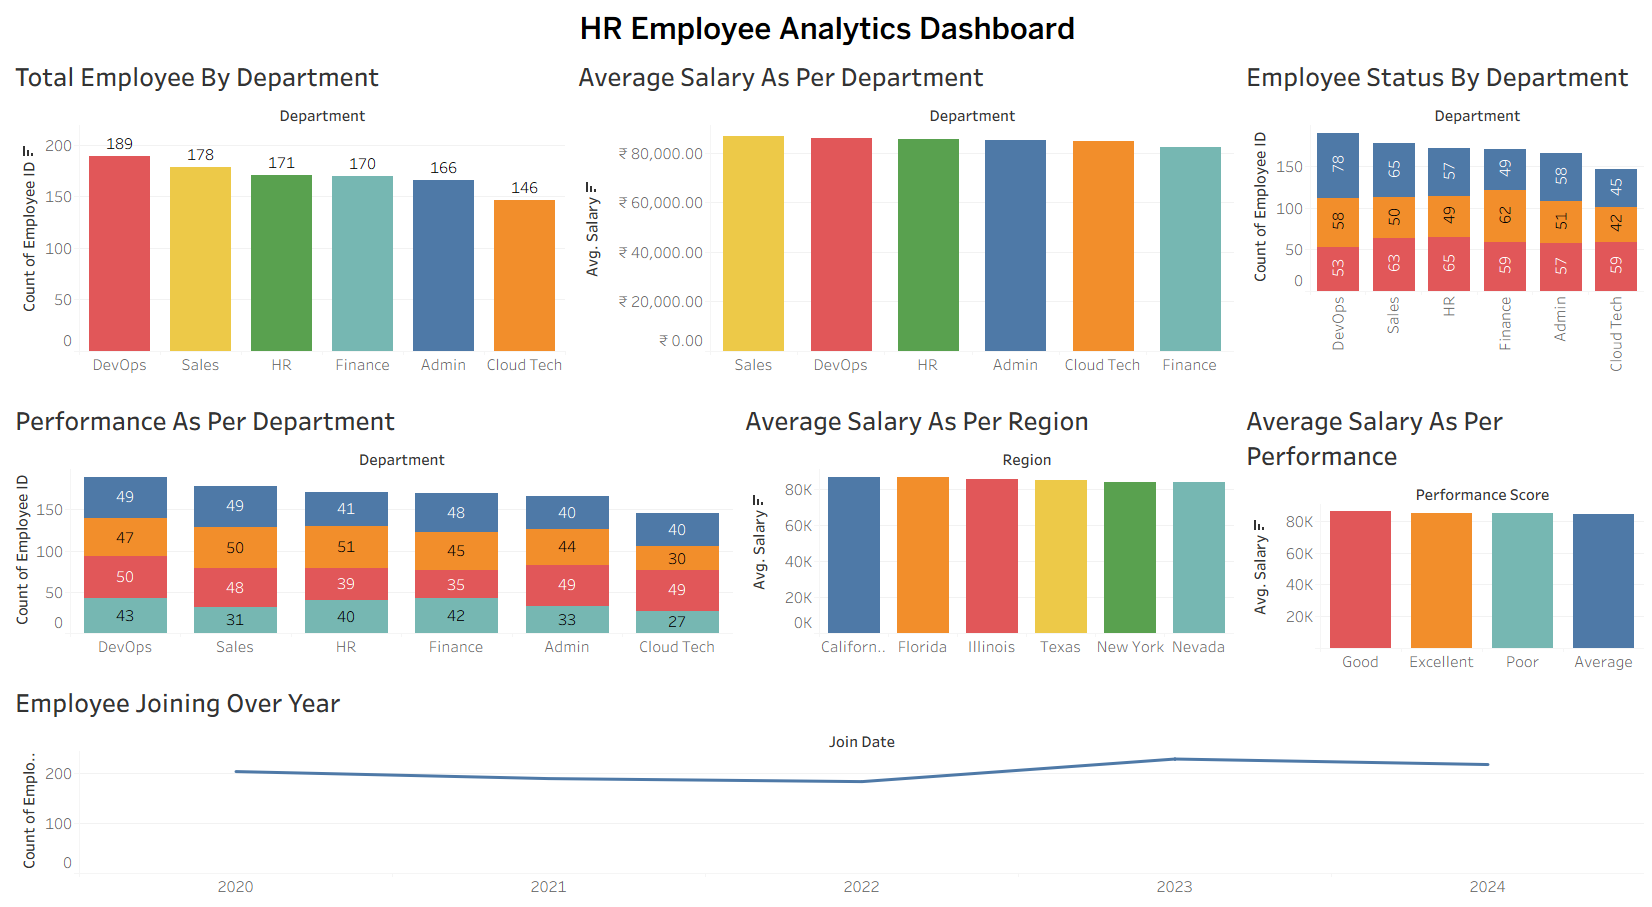

The dashboard page shown, as its layout file describes it:
{"tool":"tableau","page":{"name":"Dashboard 1","canvas":[1000,1000],"units":"permille","ordinal":0},"visuals":[{"type":"title","box":[4.8,8.8,990.3,48.3]},{"type":"worksheet","title":"Sheet 1","mark":"Automatic","rows":["Employee_ID"],"cols":["Department"],"box":[4.8,57.1,339.8,377.6]},{"type":"worksheet","title":"Sheet 2","mark":"Bar","rows":["Salary"],"cols":["Department"],"box":[344.6,57.1,403,377.6]},{"type":"worksheet","title":"Sheet 8","mark":"Automatic","rows":["Employee_ID"],"cols":["Department"],"box":[747.6,57.1,247.6,377.6]},{"type":"worksheet","title":"Sheet 7","mark":"Automatic","rows":["Employee_ID"],"cols":["Department"],"box":[4.8,434.7,440.5,309.9]},{"type":"worksheet","title":"Sheet 5","mark":"Bar","rows":["Salary"],"cols":["Region"],"box":[445.4,434.7,302.2,309.9]},{"type":"worksheet","title":"Sheet 3","mark":"Bar","rows":["Salary"],"cols":["Performance_Score"],"box":[747.6,434.7,247.6,309.9]},{"type":"worksheet","title":"Sheet 6","mark":"Line","rows":["Employee_ID"],"cols":["Join_Date"],"box":[4.8,744.6,990.3,246.6]}]}

Visuals, with their boxes on the dashboard's canvas, which has no fixed pixel size, in thousandths of its width and height (x1, y1, x2, y2). These are canvas units, not pixel positions in the 1652x907 screenshot, which may show the page scaled, cropped or inside an application window:
title: 5 9 995 57
"Sheet 1" worksheet: 5 57 345 435
"Sheet 2" worksheet (Bar marks): 345 57 748 435
"Sheet 8" worksheet: 748 57 995 435
"Sheet 7" worksheet: 5 435 445 745
"Sheet 5" worksheet (Bar marks): 445 435 748 745
"Sheet 3" worksheet (Bar marks): 748 435 995 745
"Sheet 6" worksheet (Line marks): 5 745 995 991
